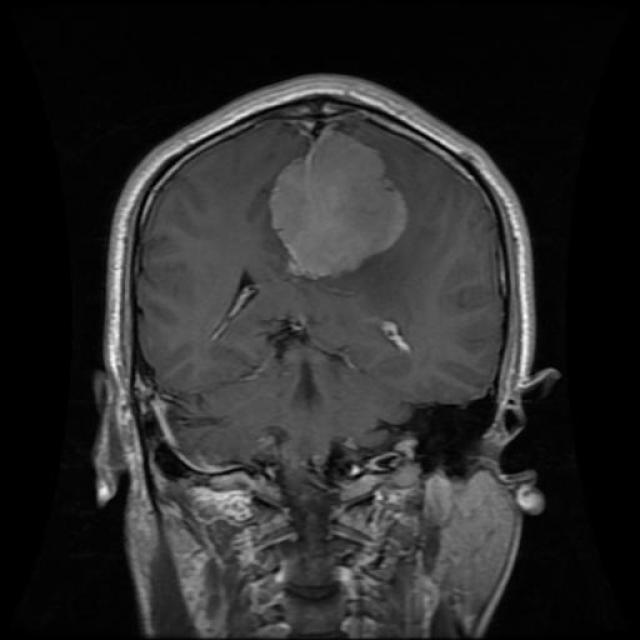Tumor: (260, 135, 410, 273)
